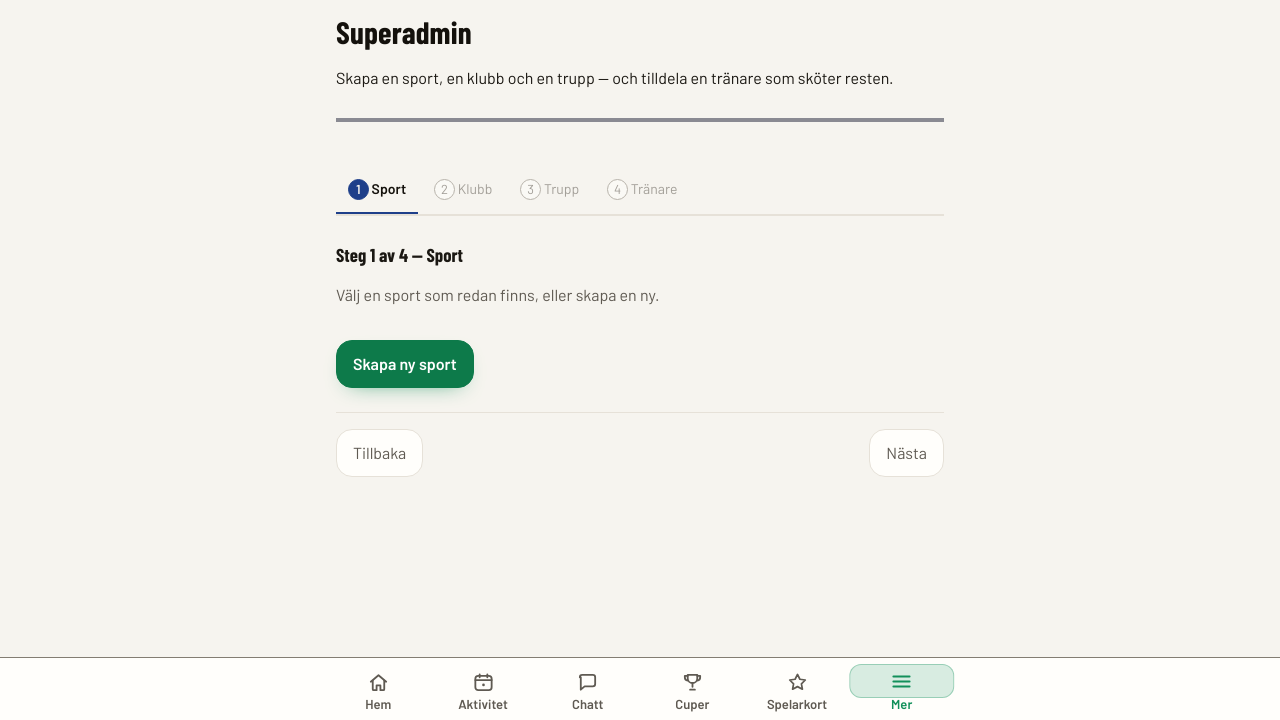
Test case: Uppsättningsguiden › skapar en sport i steg 1 och väljer den — anropet bär rätt data
The width and height of the screenshot is (1280, 720).
Click the button "Skapa ny sport": click(405, 364) [336,340,474,388]
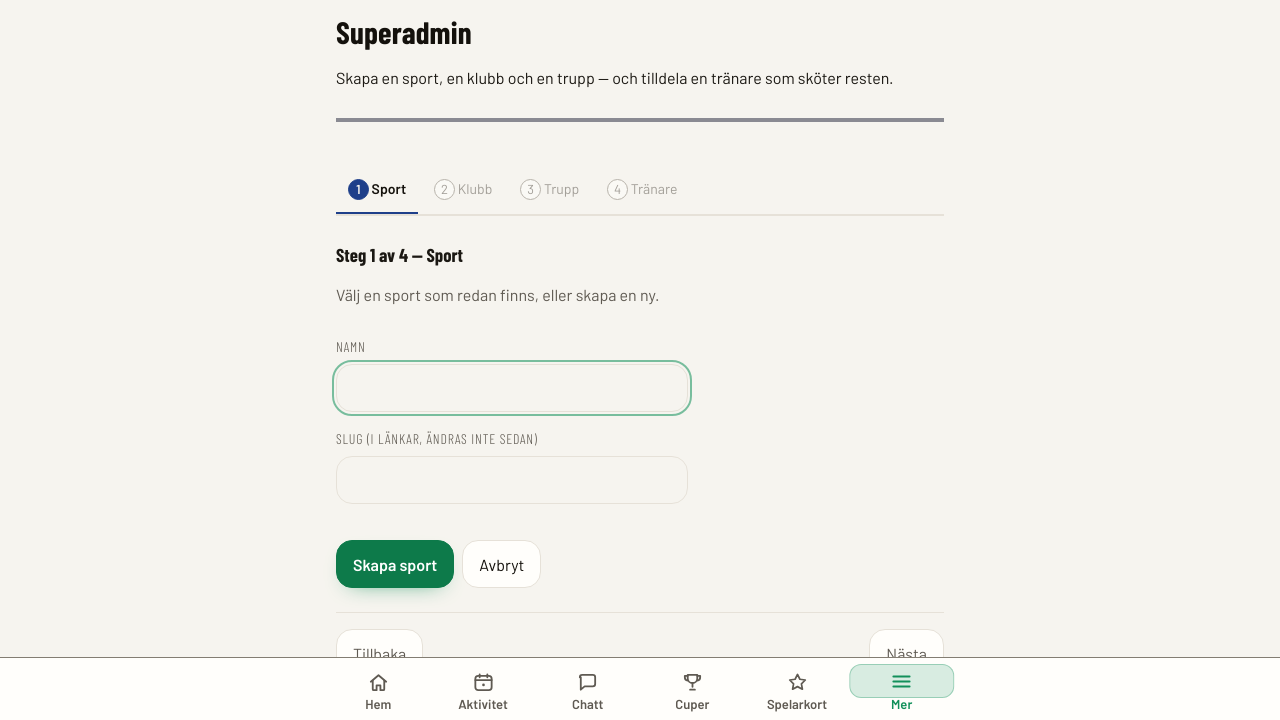
In the field labelled "Namn": (512, 388) [336,364,688,412], type "Fotboll"
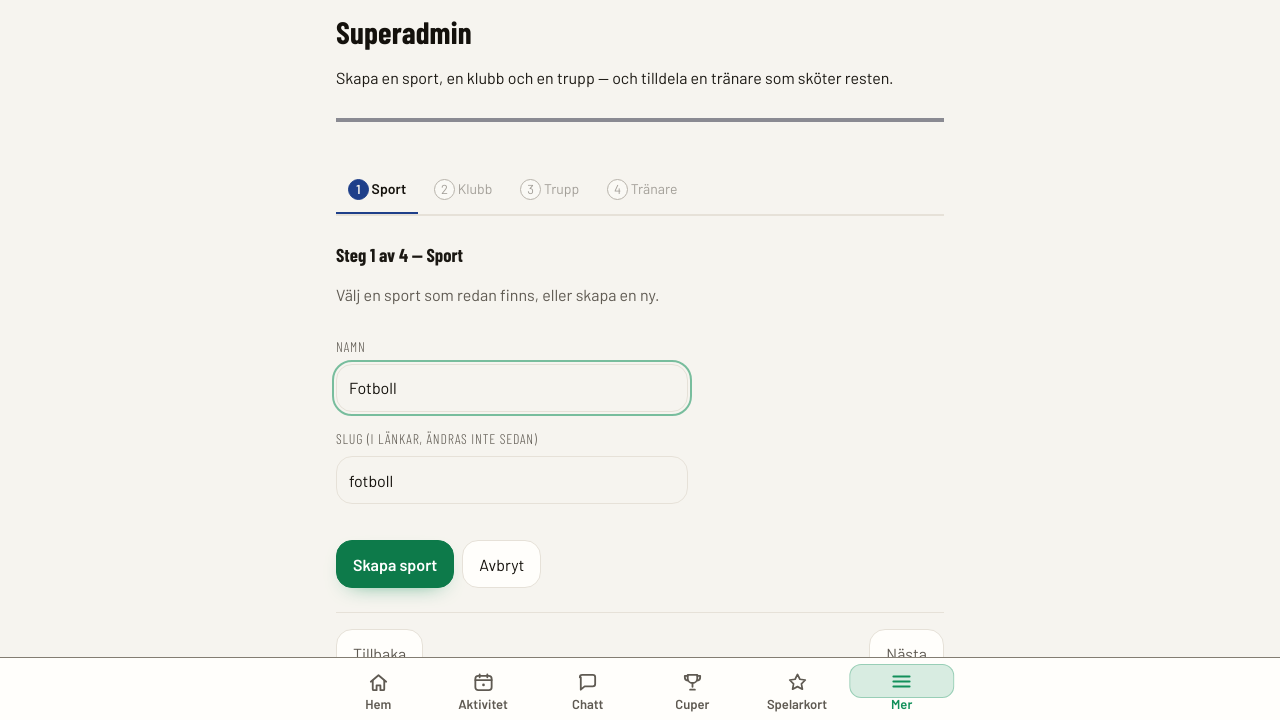
Check: the field labelled "Slug (i länkar, ändras inte sedan)" holds "fotboll", box [336,456,688,504]
Click the button "Skapa sport": click(395, 564) [336,540,454,588]
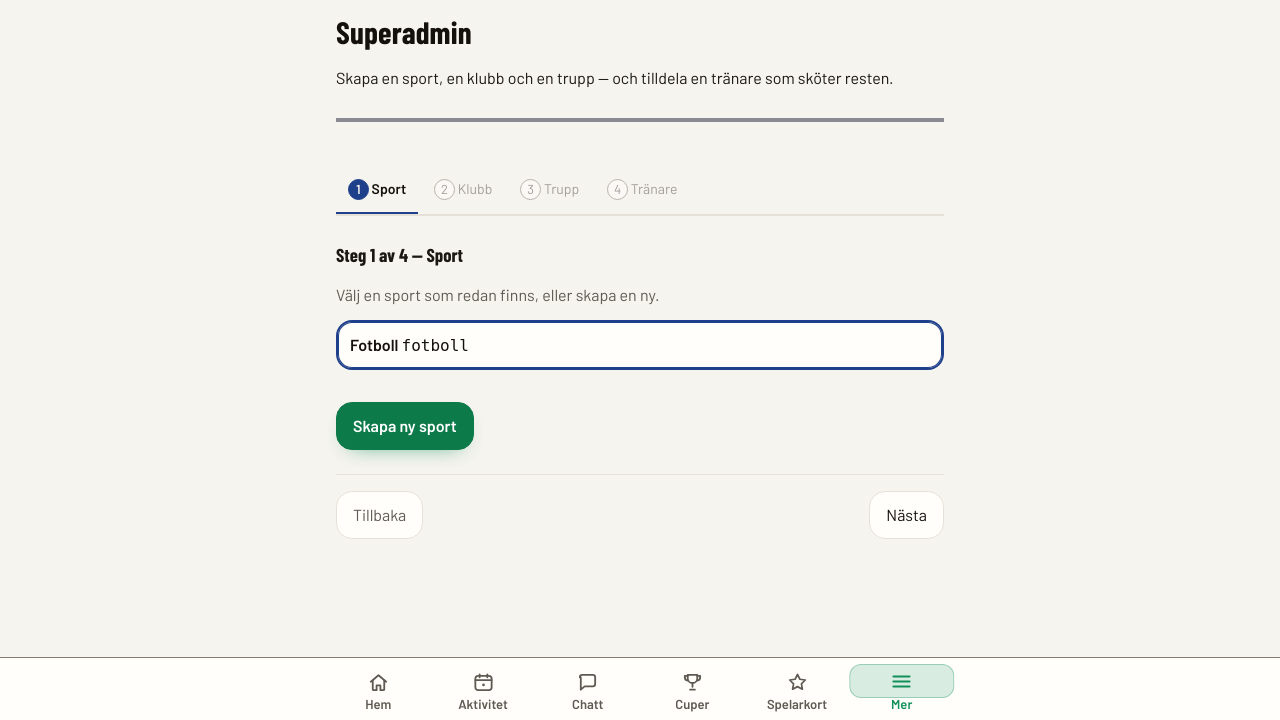
Check: the radio button labelled "Fotboll fotboll" is checked, box [336,320,944,370]
Check: the button "Nästa" is enabled, box [869,491,944,539]
